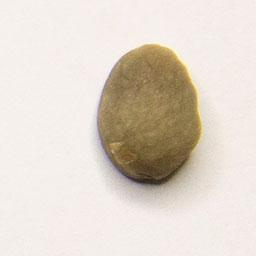premium: (92, 38, 207, 188)
